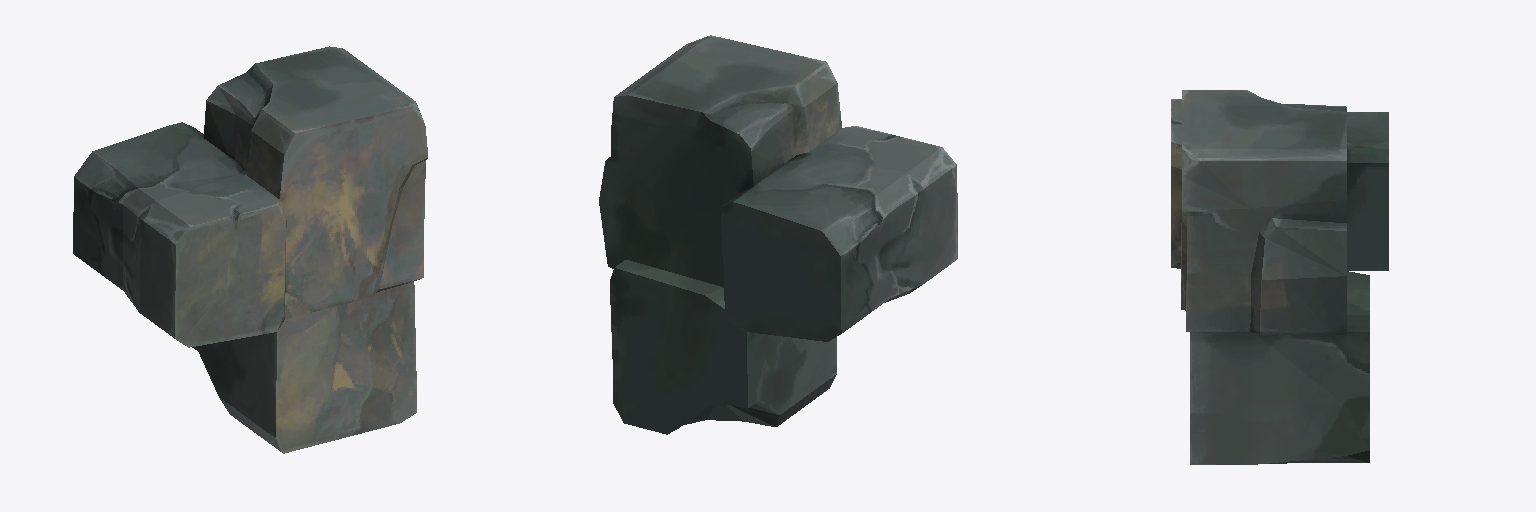
3 views of the same model, side by side, from view 1: azimuth 30°, elevation 25°; view 2: azimuth 150°, elevation 25°; view 3: azimuth 270°, elevation 25° (orthographic).
Parts seen in each view (by area): view 1: Dn_HL_Floor_Block_B; view 2: Dn_HL_Floor_Block_B; view 3: Dn_HL_Floor_Block_B.
Part boxes in pixels (x1,y1,x2,y2): Dn_HL_Floor_Block_B: (73,46,427,453); Dn_HL_Floor_Block_B: (599,35,957,434); Dn_HL_Floor_Block_B: (1171,90,1388,464).
Bounding box in the file's own units: 5.94 × 6.72 × 4.14.
Materials: 1 (1 with a texture image).